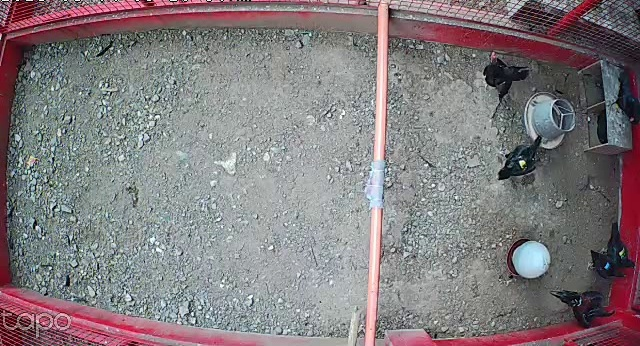Chicken: (476, 48, 534, 102), (494, 126, 548, 180), (608, 62, 640, 133), (596, 219, 636, 272), (587, 249, 626, 280)
Rooster: (546, 284, 616, 331)
Saddle_Color_Blue: (605, 263, 609, 269)
Saddle_Color_Yellow: (517, 153, 526, 169)
Saddle_Color_YellowGreen: (619, 248, 627, 259)
